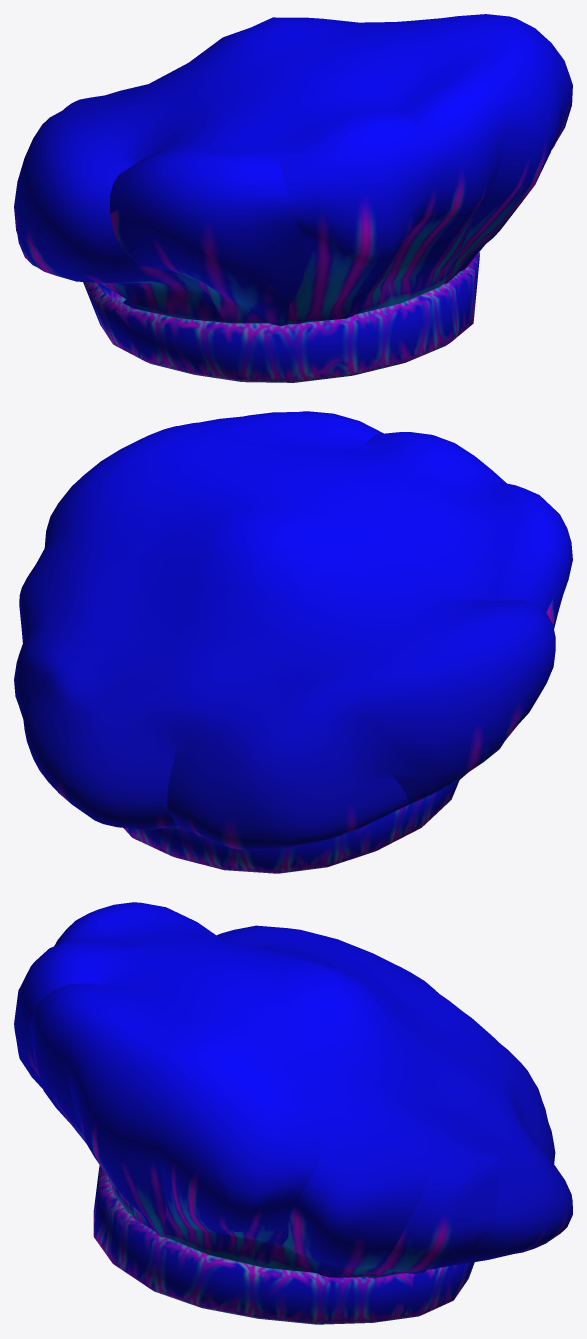
The picture shows the model from 3 angles, top to bottom: view 1: azimuth 30°, elevation 25°; view 2: azimuth 150°, elevation 25°; view 3: azimuth 270°, elevation 25°; orthographic projection. The views are drawn at different scales.
Parts seen in each view (by area): view 1: Cap_Cheef_Hat_KA01; view 2: Cap_Cheef_Hat_KA01; view 3: Cap_Cheef_Hat_KA01.
Boxes of the visible parts, <box> form: Cap_Cheef_Hat_KA01: <box>14,14,572,382</box>; Cap_Cheef_Hat_KA01: <box>14,411,572,873</box>; Cap_Cheef_Hat_KA01: <box>14,902,572,1324</box>.
Size of the model in its own units: 1.27 by 0.7302 by 1.21.
Materials: 1 (1 with a texture image).
